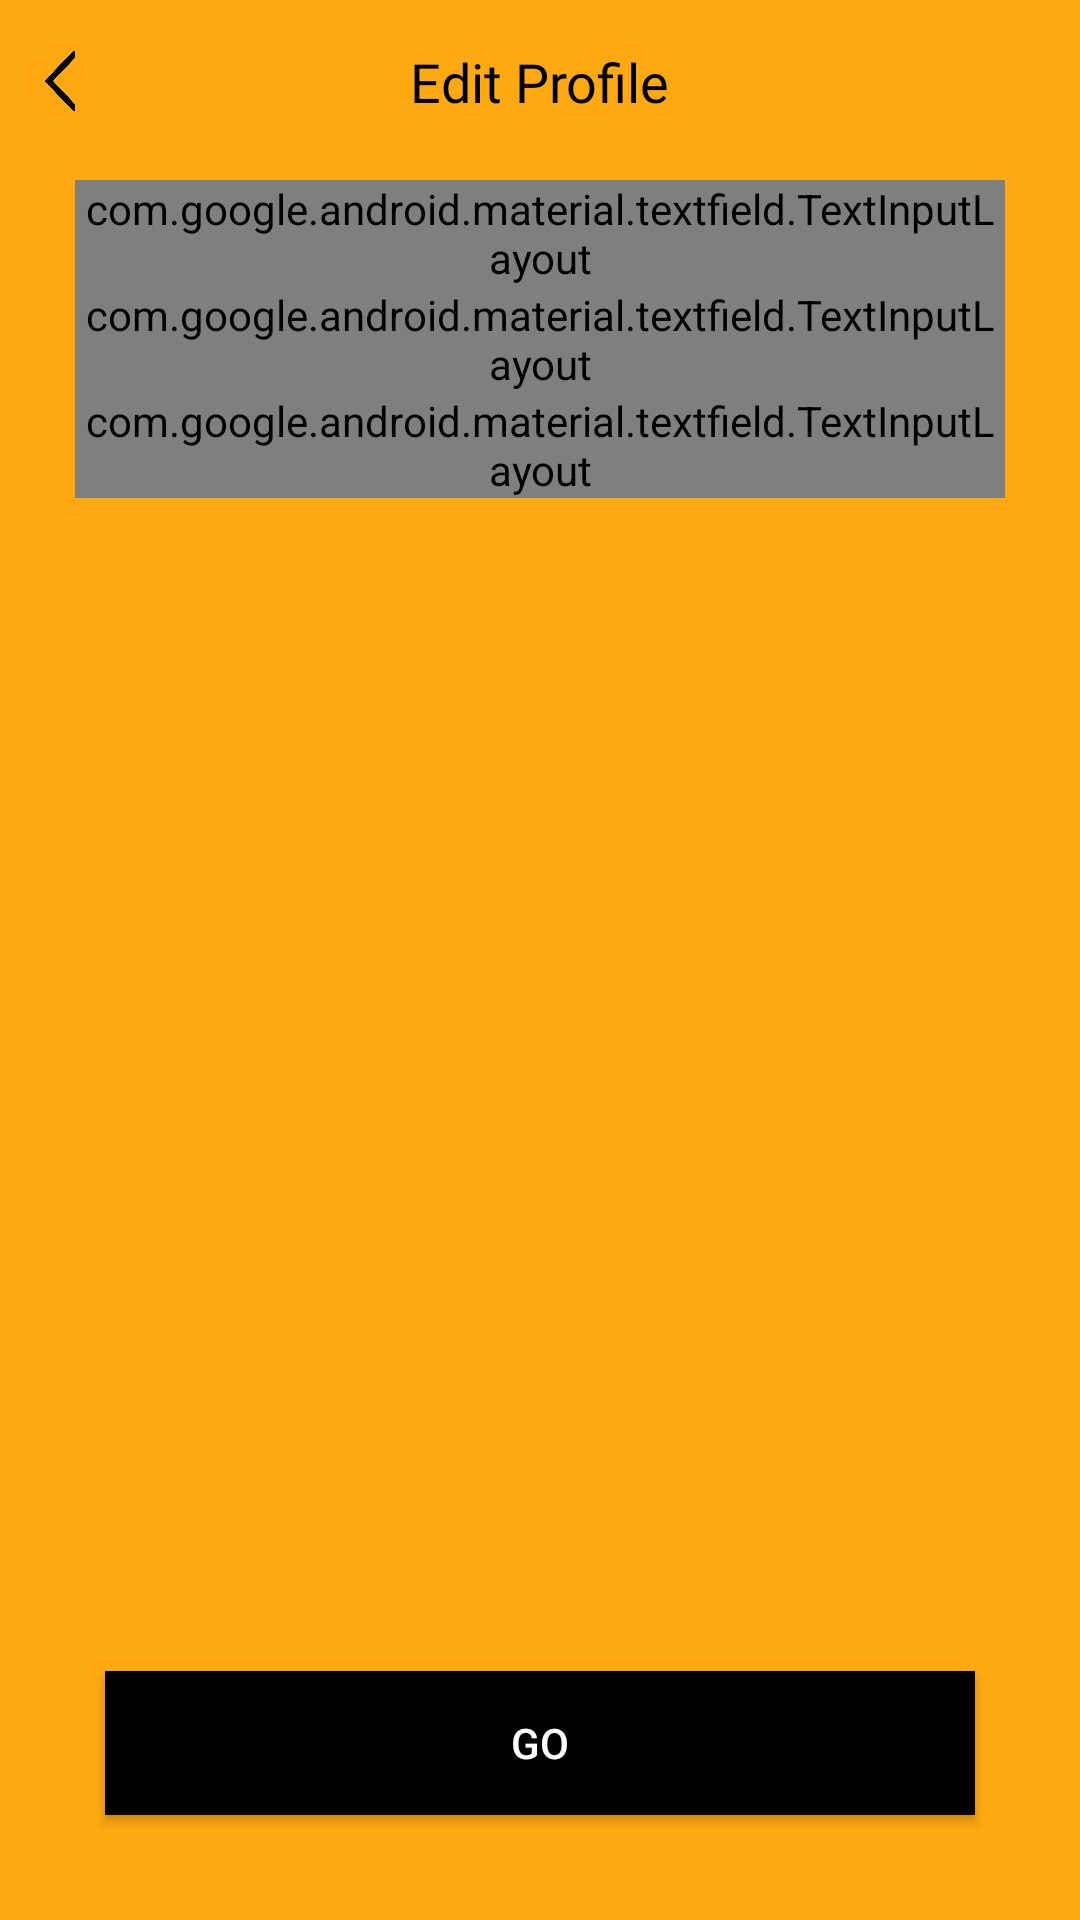

Named icons in this screenshot (1080 x 1920) and their bounding boxes, (x1, y1, x2, y2):
left: (45, 51, 75, 111)
